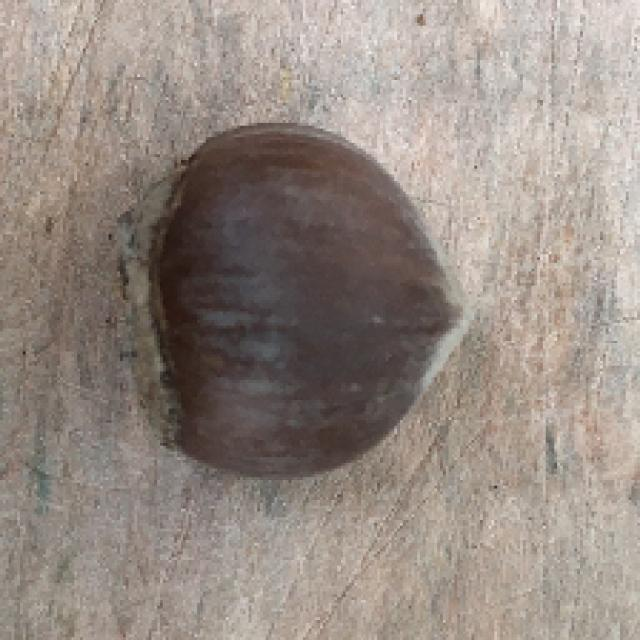damagedHazelnut: (114, 117, 485, 492)
